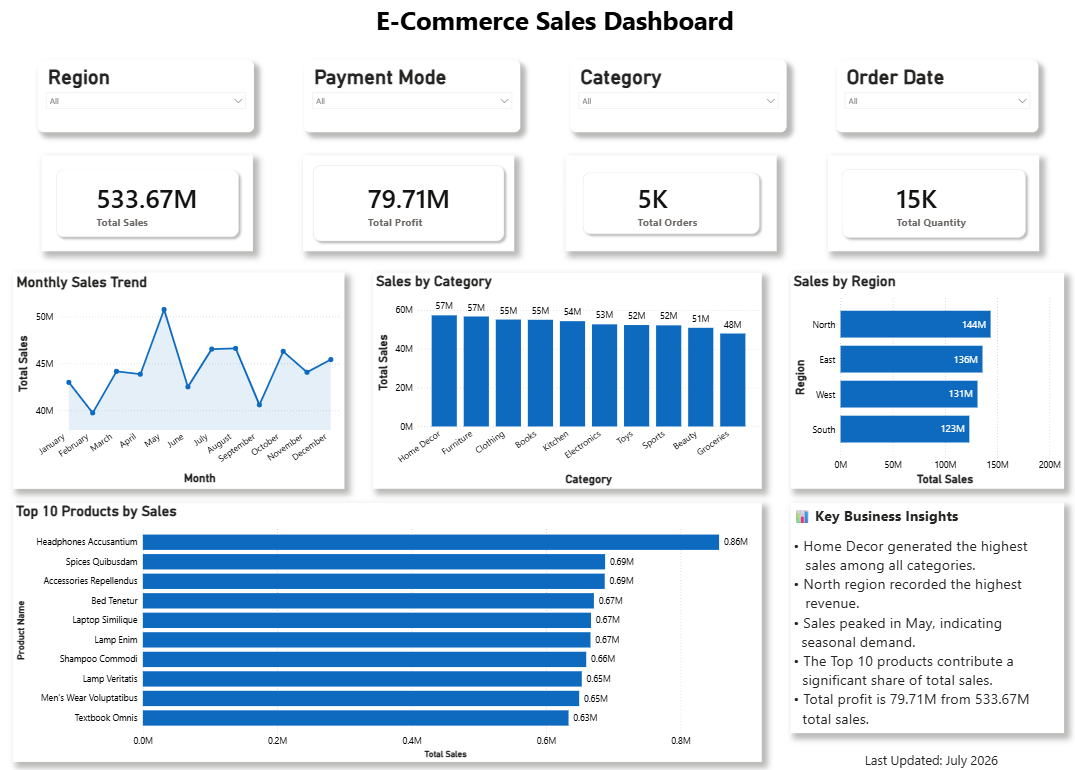

The dashboard page shown, as its layout file describes it:
{"tool":"powerbi","page":{"name":"Page 1","canvas":[1800,1300],"ordinal":0},"visuals":[{"type":"cardVisual","fields":{"Data":["Sales.Total Profit"]},"box":[509.3,260.2,352,160],"z":0},{"type":"cardVisual","fields":{"Data":["Sales.Total Orders"]},"box":[946.6,260.2,352,160],"z":1000},{"type":"cardVisual","fields":{"Data":["Sales.Total Quantity"]},"box":[1384,260.2,352,160],"z":2000},{"type":"cardVisual","fields":{"Data":["Sales.Total Sales"]},"box":[72,260.2,352,160],"z":3000},{"type":"lineChart","title":"Monthly Sales Trend","fields":{"Y":["Sales.Total Sales"],"Category":["Sales.Order Date.Variation.Date Hierarchy.Month"]},"box":[24,456,552,360],"z":4000},{"type":"clusteredColumnChart","title":"Sales by Category","fields":{"Category":["Sales.Category"],"Y":["Sales.Total Sales"]},"box":[624,456,648,360],"z":5000},{"type":"clusteredBarChart","title":"Sales by Region","fields":{"Category":["Sales.Region"],"Y":["Sales.Total Sales"]},"box":[1320,456,456,360],"z":6000},{"type":"clusteredBarChart","title":"Top 10 Products by Sales","fields":{"Y":["Sales.Total Sales"],"Category":["Sales.Product Name"]},"box":[24,840,1248,432],"z":7000},{"type":"slicer","fields":{"Values":["Sales.Region"]},"box":[66.4,102.4,360,120],"z":8000},{"type":"slicer","fields":{"Values":["Sales.Category"]},"box":[954.7,102.4,360,120],"z":9000},{"type":"slicer","fields":{"Values":["Sales.Payment Mode"]},"box":[510.5,102.4,360,120],"z":10000},{"type":"slicer","fields":{"Values":["Sales.Order Date"]},"box":[1398.9,102.4,336,120],"z":11000},{"type":"textbox","box":[624,0,624,72],"z":12000},{"type":"textbox","box":[1320,840,456,384],"z":13000},{"type":"textbox","box":[1440,1248,288,48],"z":14000}]}

Visuals, with their boxes in screenshot pixels (x1, y1, x2, y2), scaled from the page's 1800x1300 canvas onto the 1075x770 screenshot:
cardVisual - Sales.Total Profit: [x1=304, y1=154, x2=514, y2=249]
cardVisual - Sales.Total Orders: [x1=565, y1=154, x2=776, y2=249]
cardVisual - Sales.Total Quantity: [x1=827, y1=154, x2=1037, y2=249]
cardVisual - Sales.Total Sales: [x1=43, y1=154, x2=253, y2=249]
"Monthly Sales Trend" lineChart: [x1=14, y1=270, x2=344, y2=483]
"Sales by Category" clusteredColumnChart: [x1=373, y1=270, x2=760, y2=483]
"Sales by Region" clusteredBarChart: [x1=788, y1=270, x2=1061, y2=483]
"Top 10 Products by Sales" clusteredBarChart: [x1=14, y1=498, x2=760, y2=753]
slicer - Sales.Region: [x1=40, y1=61, x2=255, y2=132]
slicer - Sales.Category: [x1=570, y1=61, x2=785, y2=132]
slicer - Sales.Payment Mode: [x1=305, y1=61, x2=520, y2=132]
slicer - Sales.Order Date: [x1=835, y1=61, x2=1036, y2=132]
textbox: [x1=373, y1=0, x2=745, y2=43]
textbox: [x1=788, y1=498, x2=1061, y2=725]
textbox: [x1=860, y1=739, x2=1032, y2=768]
